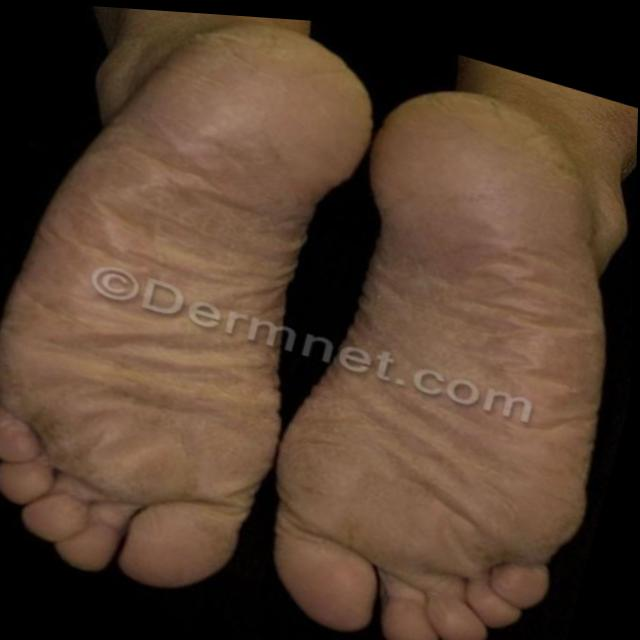liquenificacion 2: (0, 95, 613, 610)
